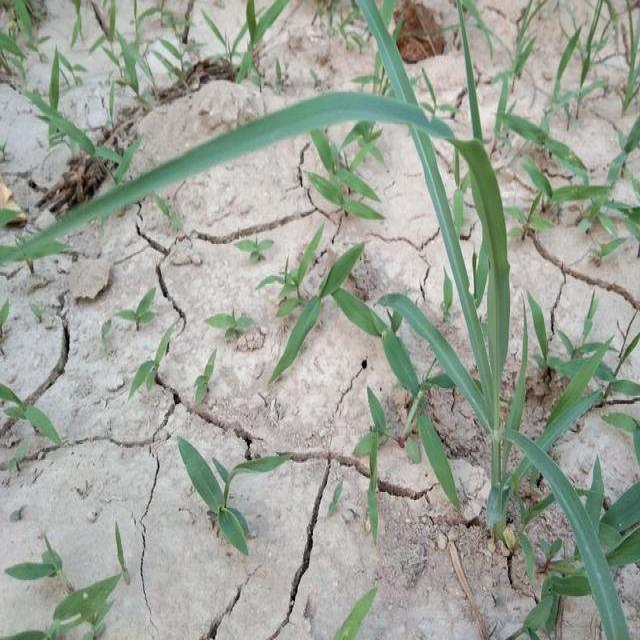weed: (363, 21, 640, 640), (18, 94, 399, 229), (465, 0, 640, 244), (503, 257, 640, 487), (243, 232, 392, 388), (172, 422, 284, 565), (7, 541, 122, 640), (0, 401, 61, 454), (140, 325, 178, 392), (112, 299, 162, 330)
